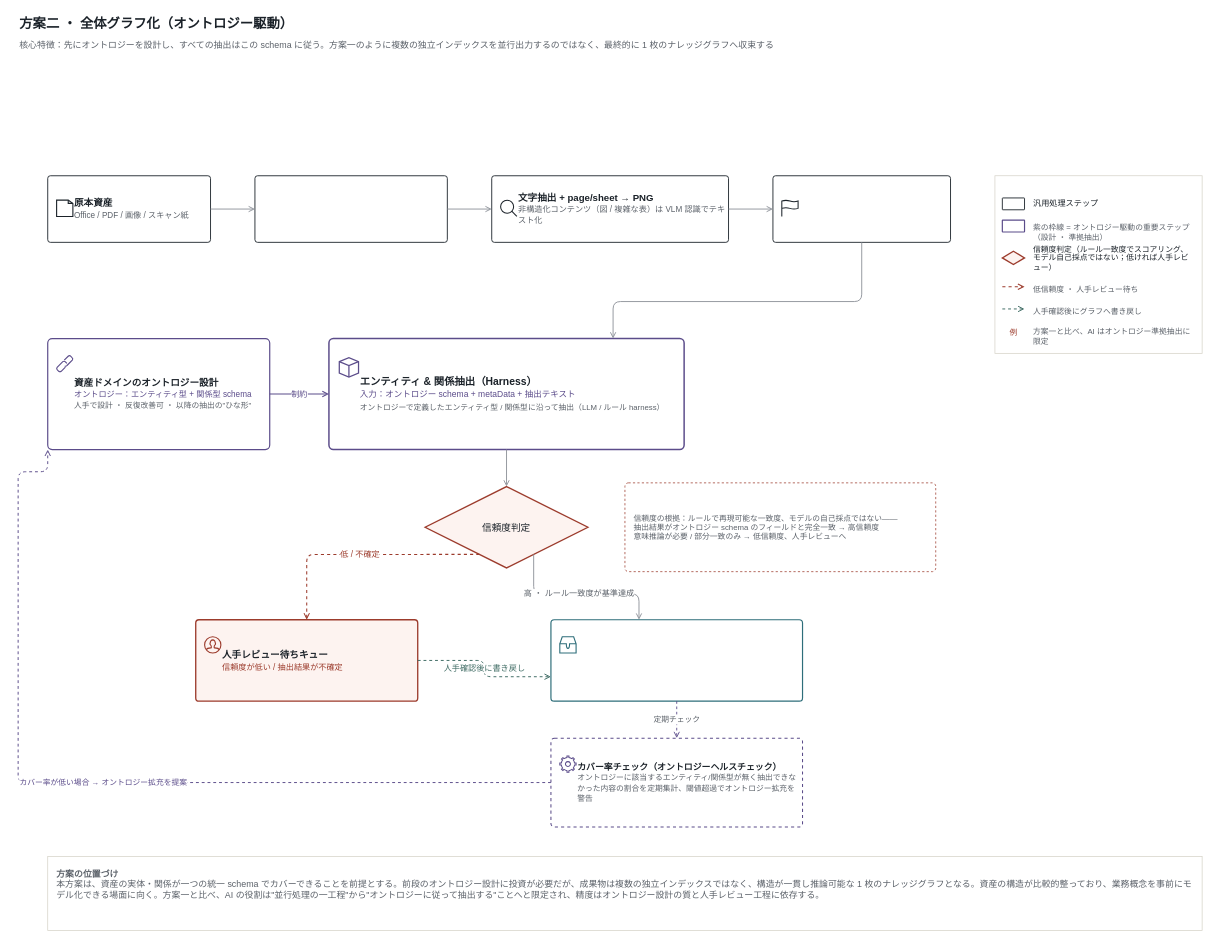
Some shapes in this 1216 by 944 pixel diagram are drawn without their labels. The box of each missing label's shape, as (x1, y1, x2, y2) in pixels:
metaData 登録 出典 / ページ・シート番号 / 種別: (772, 175, 951, 242)
スキャン & 種別判定 プレーンテキスト / 複雑な表 / フローチャート / 画像: (254, 175, 447, 242)
ナレッジグラフ準備完了 Graph DB 全資産をエンティティ化 ・ 関係化 ・ 下流のマルチホップ検索 / QA で使用: (550, 619, 803, 701)
凡例: (994, 175, 1202, 353)
